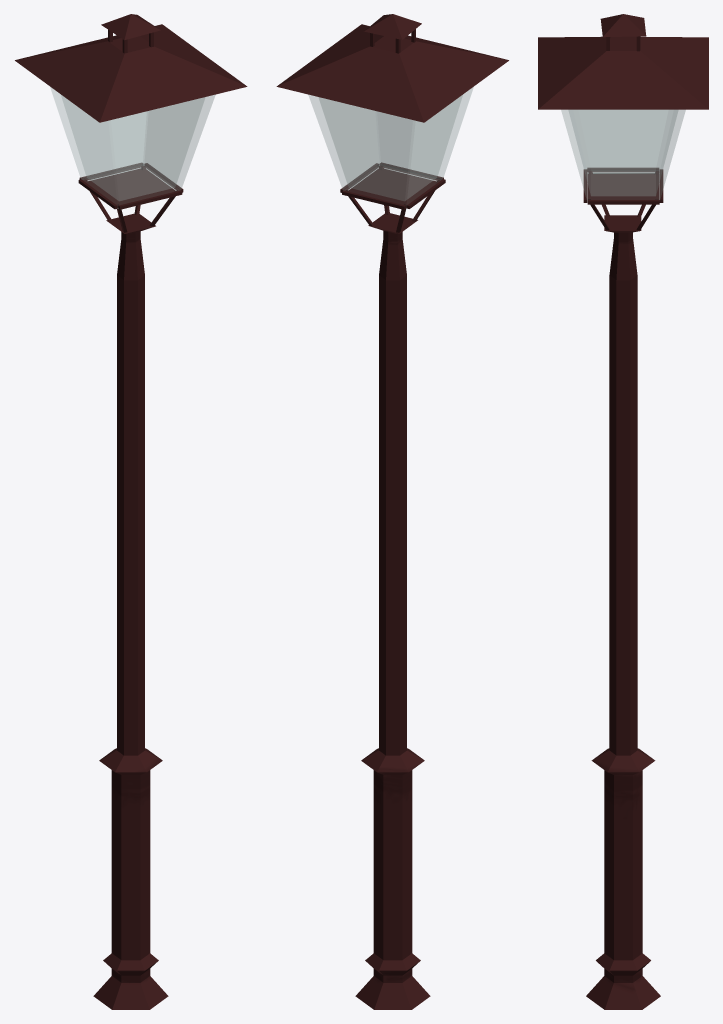
File: poste_de_iluminacao.glb
3 renders of one model, left to right at view 1: azimuth 30°, elevation 25°; view 2: azimuth 150°, elevation 25°; view 3: azimuth 270°, elevation 25°, orthographic.
Visible parts, largest first — view 1: Cube; view 2: Cube; view 3: Cube.
Part boxes in pixels (x1,y1,x2,y2): Cube: (15, 14, 247, 1009); Cube: (276, 14, 508, 1009); Cube: (538, 14, 708, 1009).
Size of the model in its own units: 164 by 1040 by 164.
Materials: 2 (2 with a texture image).
